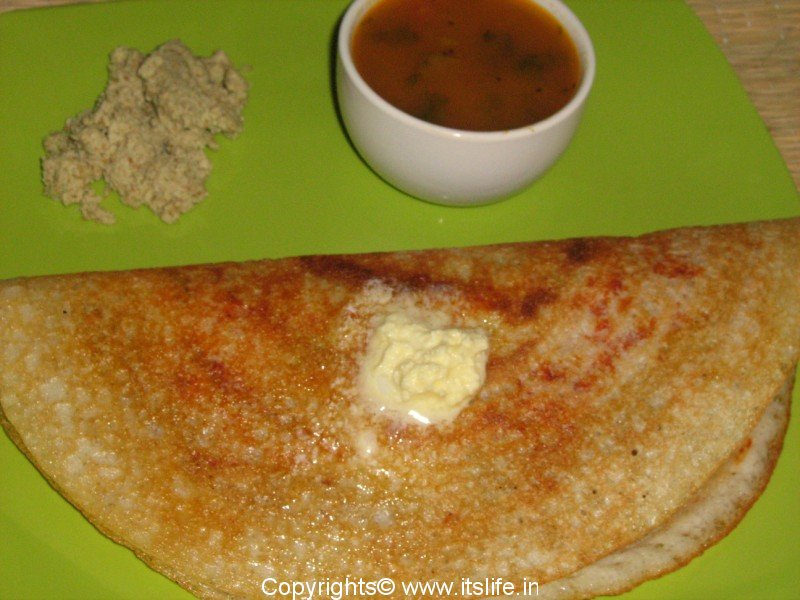dosa: (6, 138, 467, 600)
